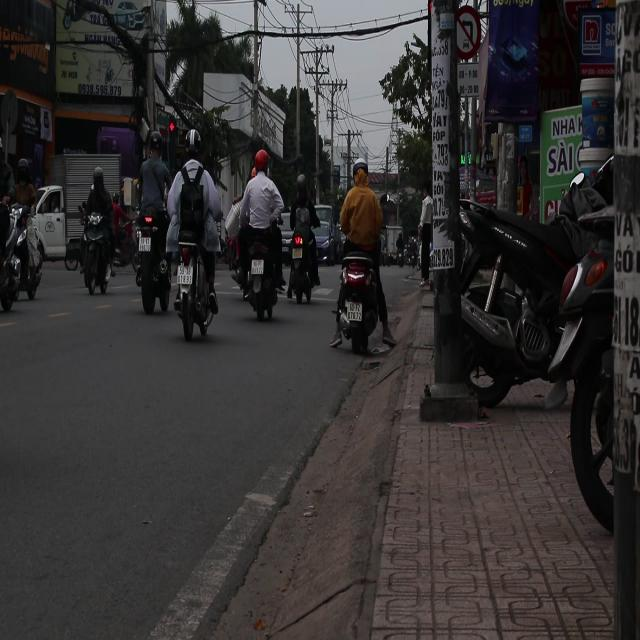car: (311, 205, 343, 263)
motorbike: (457, 185, 559, 407), (565, 160, 622, 529), (332, 256, 393, 354), (0, 199, 44, 308), (177, 239, 221, 343), (133, 209, 173, 314), (243, 233, 284, 321), (85, 216, 116, 296), (291, 230, 311, 310)
truck: (31, 150, 120, 266)
